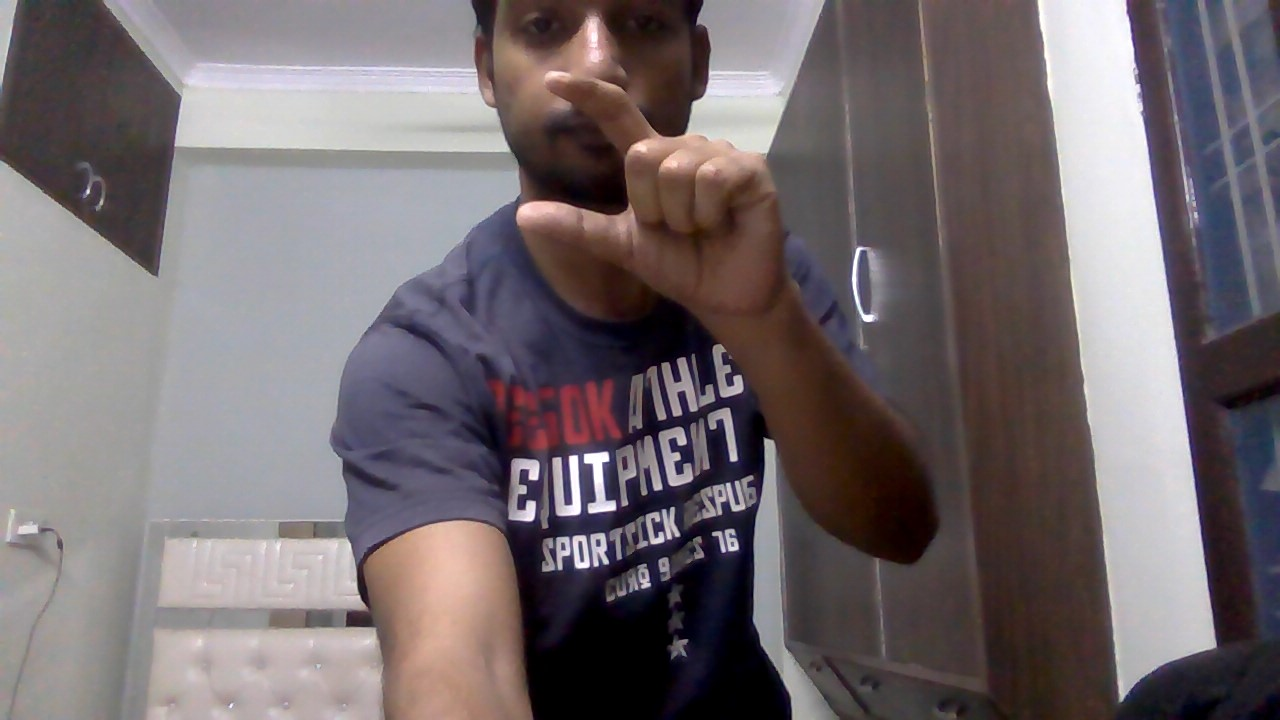Paste: (507, 66, 829, 337)
